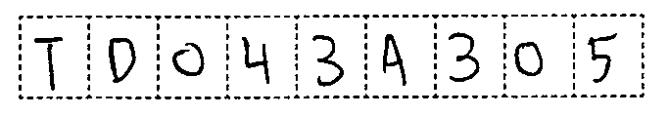0: (167, 39, 214, 85), (510, 34, 550, 82)
3: (304, 30, 350, 90), (444, 29, 486, 87)
4: (233, 32, 278, 84)
5: (580, 28, 622, 86)
A: (376, 31, 418, 88)
D: (99, 32, 145, 90)
T: (30, 32, 66, 93)
